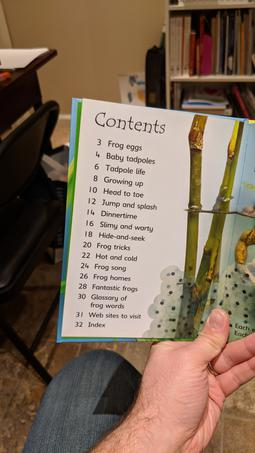text block: (76, 132, 159, 327), (91, 108, 169, 139)
